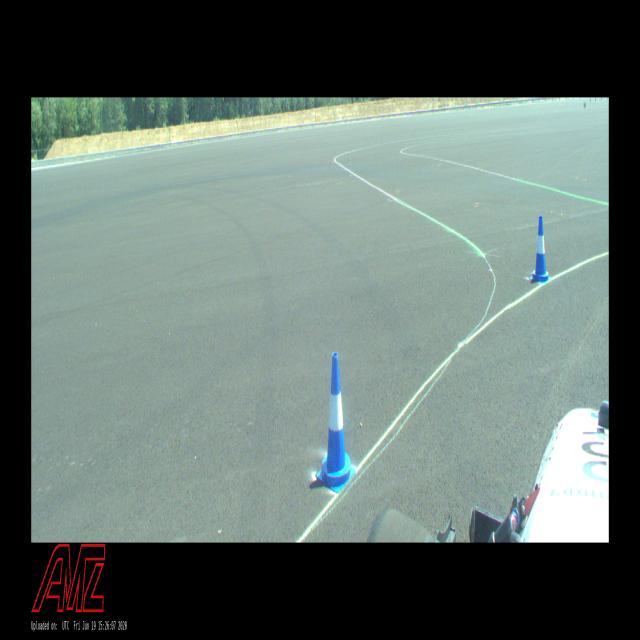blue_cone: (317, 353, 356, 493), (530, 216, 550, 284)
